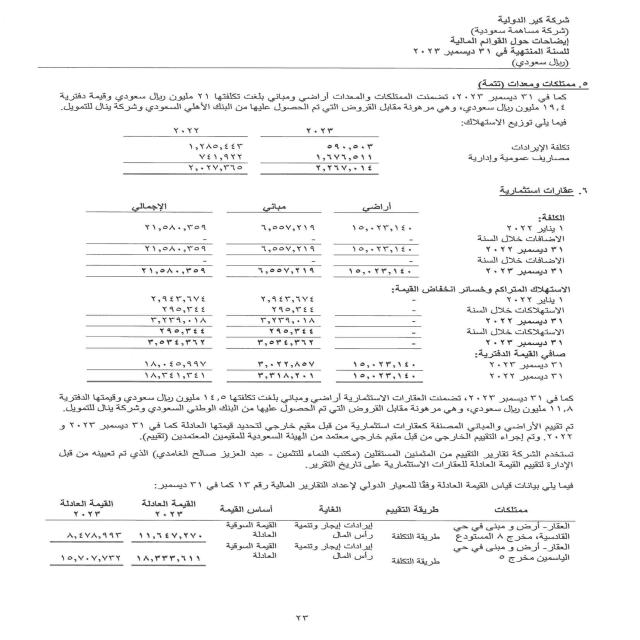notes: (442, 35, 572, 46)
table: (33, 496, 592, 589), (68, 295, 442, 385), (70, 200, 437, 281), (77, 121, 394, 184)
